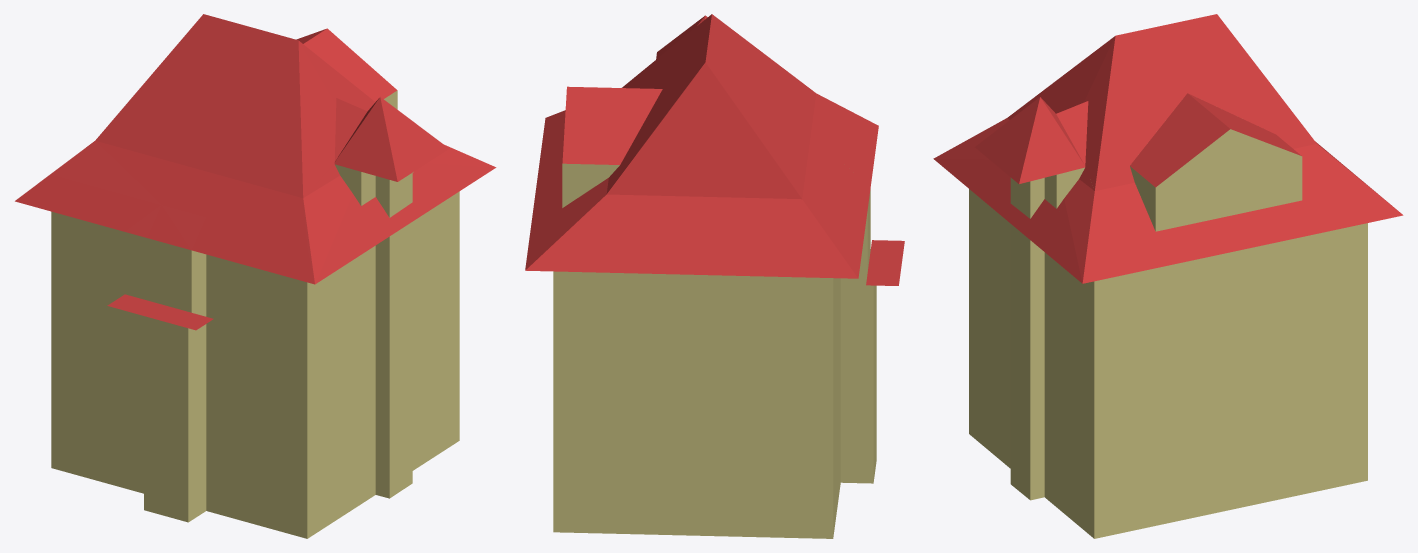
3 renders of one model, left to right at view 1: azimuth 30°, elevation 25°; view 2: azimuth 150°, elevation 25°; view 3: azimuth 270°, elevation 25°, orthographic.
Visible parts, largest first — view 1: group_7, group_3, group_6, group_14, group_9, group_4, group_11, group_12; view 2: group_7, group_3, group_6, group_4, group_14, group_12, group_5; view 3: group_7, group_3, group_5, group_4, group_9, group_6, group_11, group_10.
Boxes of the visible parts, box(x1,y1,x2,y2) form: group_7: box(51, 191, 459, 538); group_3: box(25, 14, 496, 284); group_6: box(15, 150, 493, 284); group_14: box(144, 316, 191, 522); group_9: box(334, 97, 449, 181); group_4: box(296, 28, 397, 101); group_11: box(335, 164, 413, 217); group_12: box(107, 294, 213, 330); group_7: box(553, 189, 870, 538); group_3: box(525, 14, 878, 278); group_6: box(526, 110, 869, 278); group_4: box(562, 86, 662, 164); group_14: box(867, 285, 876, 483); group_12: box(866, 240, 904, 285); group_5: box(562, 163, 619, 207); group_7: box(969, 189, 1367, 538); group_3: box(934, 14, 1403, 283); group_5: box(1130, 129, 1302, 231); group_4: box(1130, 93, 1301, 187); group_9: box(975, 97, 1088, 183); group_6: box(933, 138, 1400, 282); group_11: box(1010, 167, 1084, 218); group_10: box(977, 122, 1056, 183).
Bounding box in the file's own units: 17.21 × 17.68 × 17.82.
